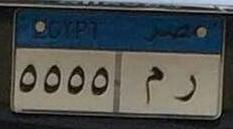5: (64, 59, 87, 99), (88, 62, 112, 100), (42, 62, 62, 99), (18, 63, 39, 96)
meem: (139, 61, 166, 108)
raa: (172, 70, 198, 105)
